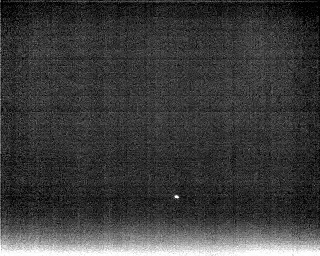BIRD: (172, 192, 181, 202)
